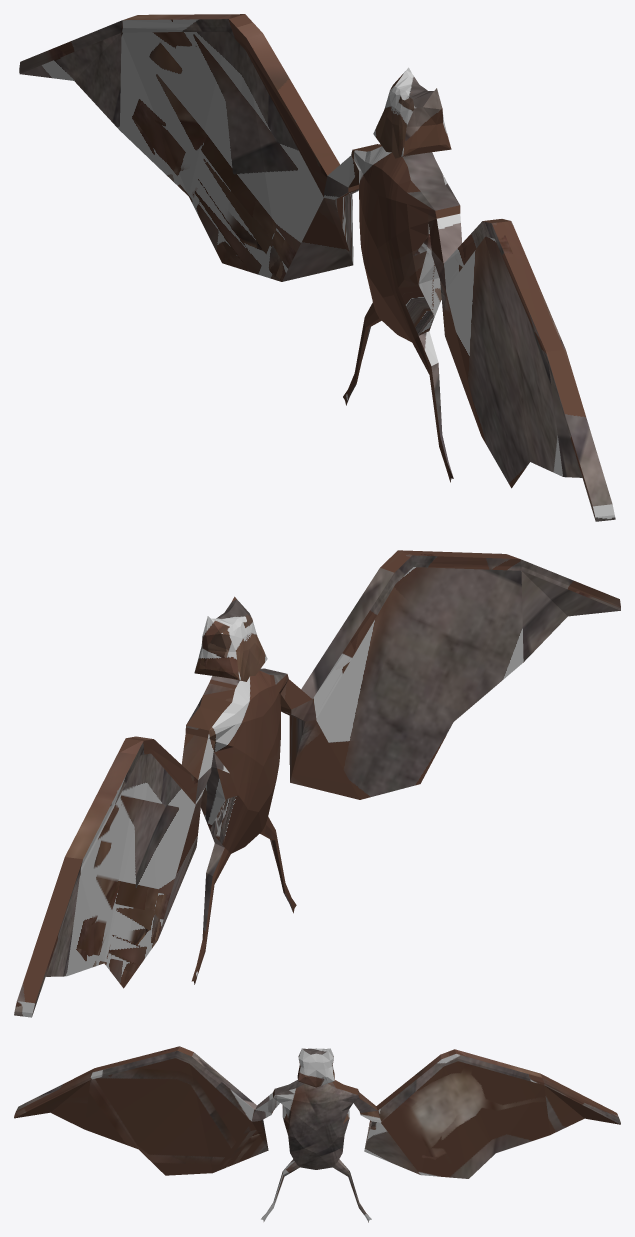
File: Enemigo114.obj
3 views of the same model, one above another, from view 1: azimuth 30°, elevation 25°; view 2: azimuth 150°, elevation 25°; view 3: azimuth 270°, elevation 25° (orthographic). The views are drawn at different scales.
Visible parts, largest first — view 1: Plano; view 2: Plano; view 3: Plano.
Boxes of the visible parts, x1=… form: Plano: x1=19, y1=14, x2=615, y2=521; Plano: x1=14, y1=550, x2=620, y2=1017; Plano: x1=14, y1=1046, x2=620, y2=1222.
Size of the model in its own units: 0.3105 by 0.7578 by 2.31.
Materials: 1 (1 with a texture image).
